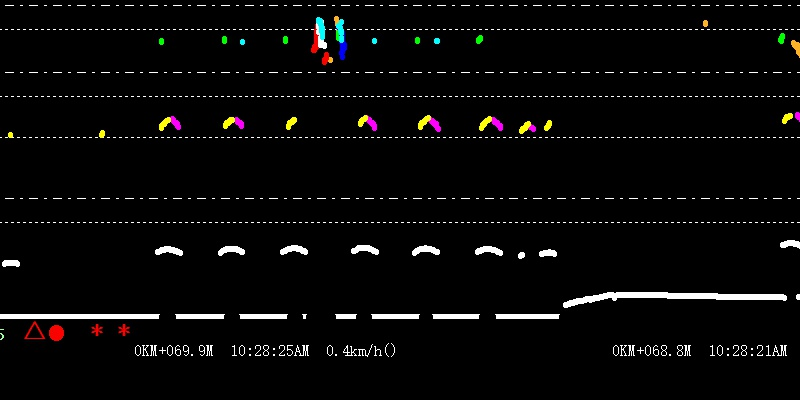J: (312, 1, 345, 64)
circle: (46, 322, 65, 344)
star: (86, 320, 106, 339), (115, 324, 131, 339)
y_p: (146, 111, 511, 267)
